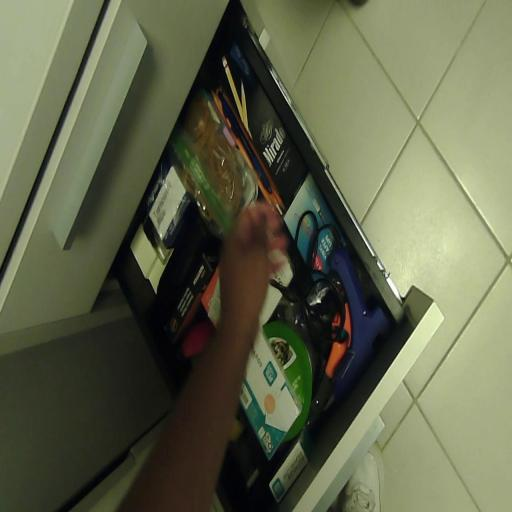pen: (218, 95, 280, 211)
